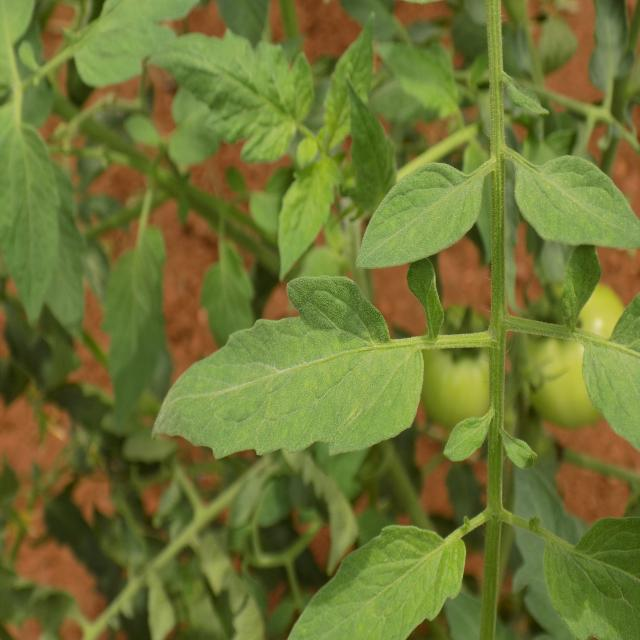tomato_healthy: (148, 274, 426, 456), (284, 510, 475, 640), (138, 33, 315, 164), (353, 148, 483, 271), (499, 147, 640, 248)
